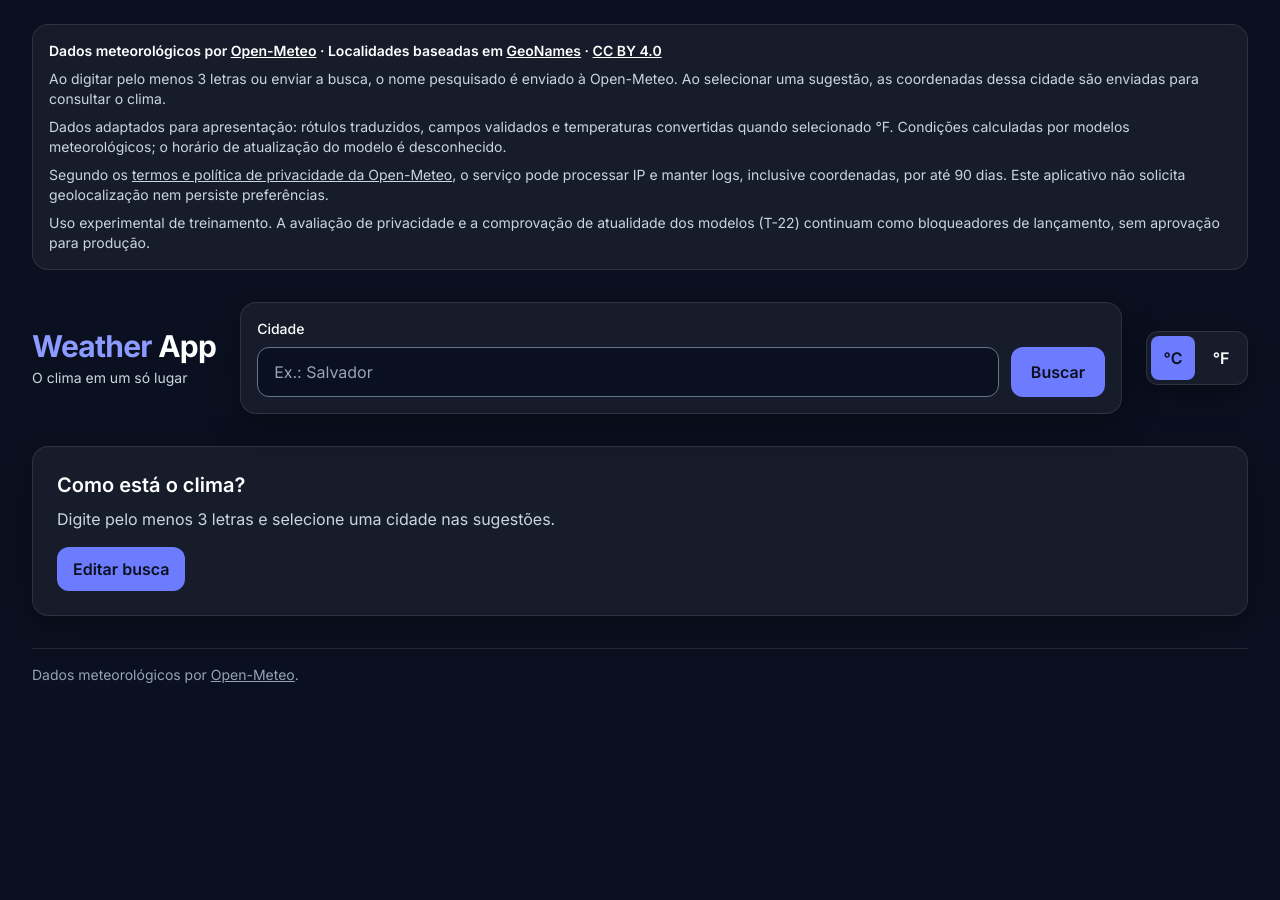
Test: App com API e estados independentes › autocomplete permite escolher o segundo homônimo sem consulta antes da seleção
Type "Sal" into the dropdown labelled "Cidade" at (628, 372), box [257,347,999,397]
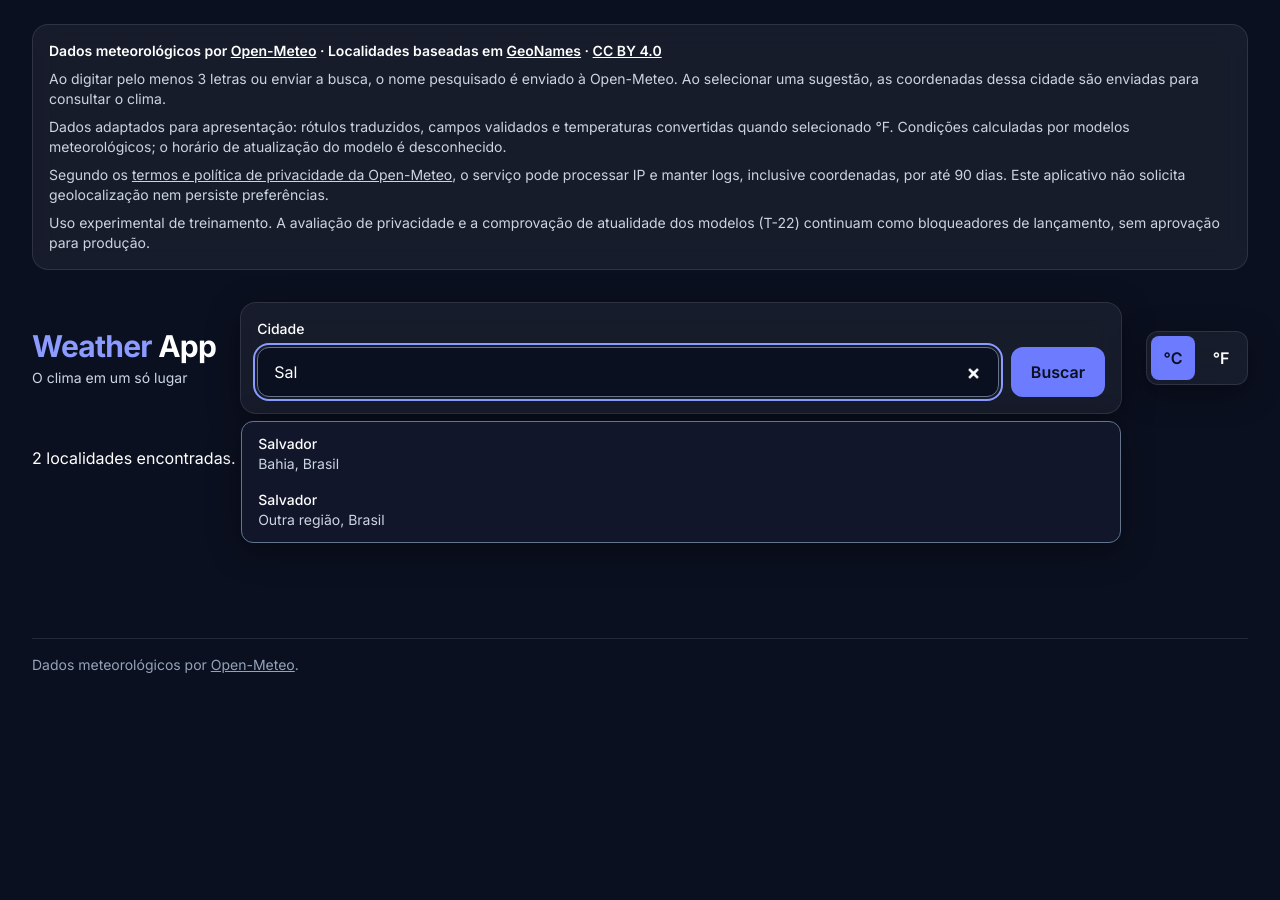
Check: the option "Salvador Outra região, Brasil" is shown, box [246,482,1116,538]
Press Arrowdown Arrowdown Enter
(page scrolled)
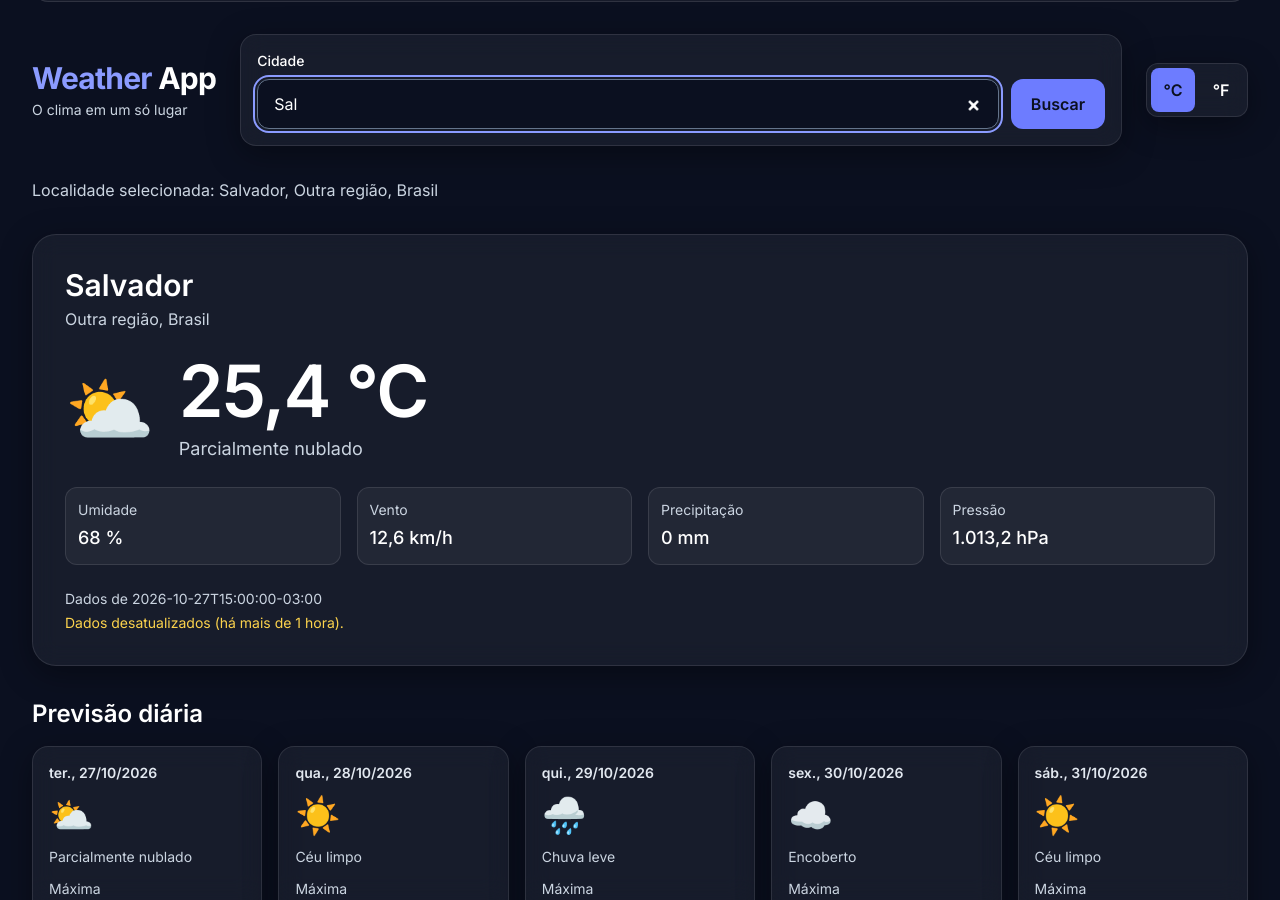
Check: the element "Salvador" shows "Outra região", box [65,309,210,329]
